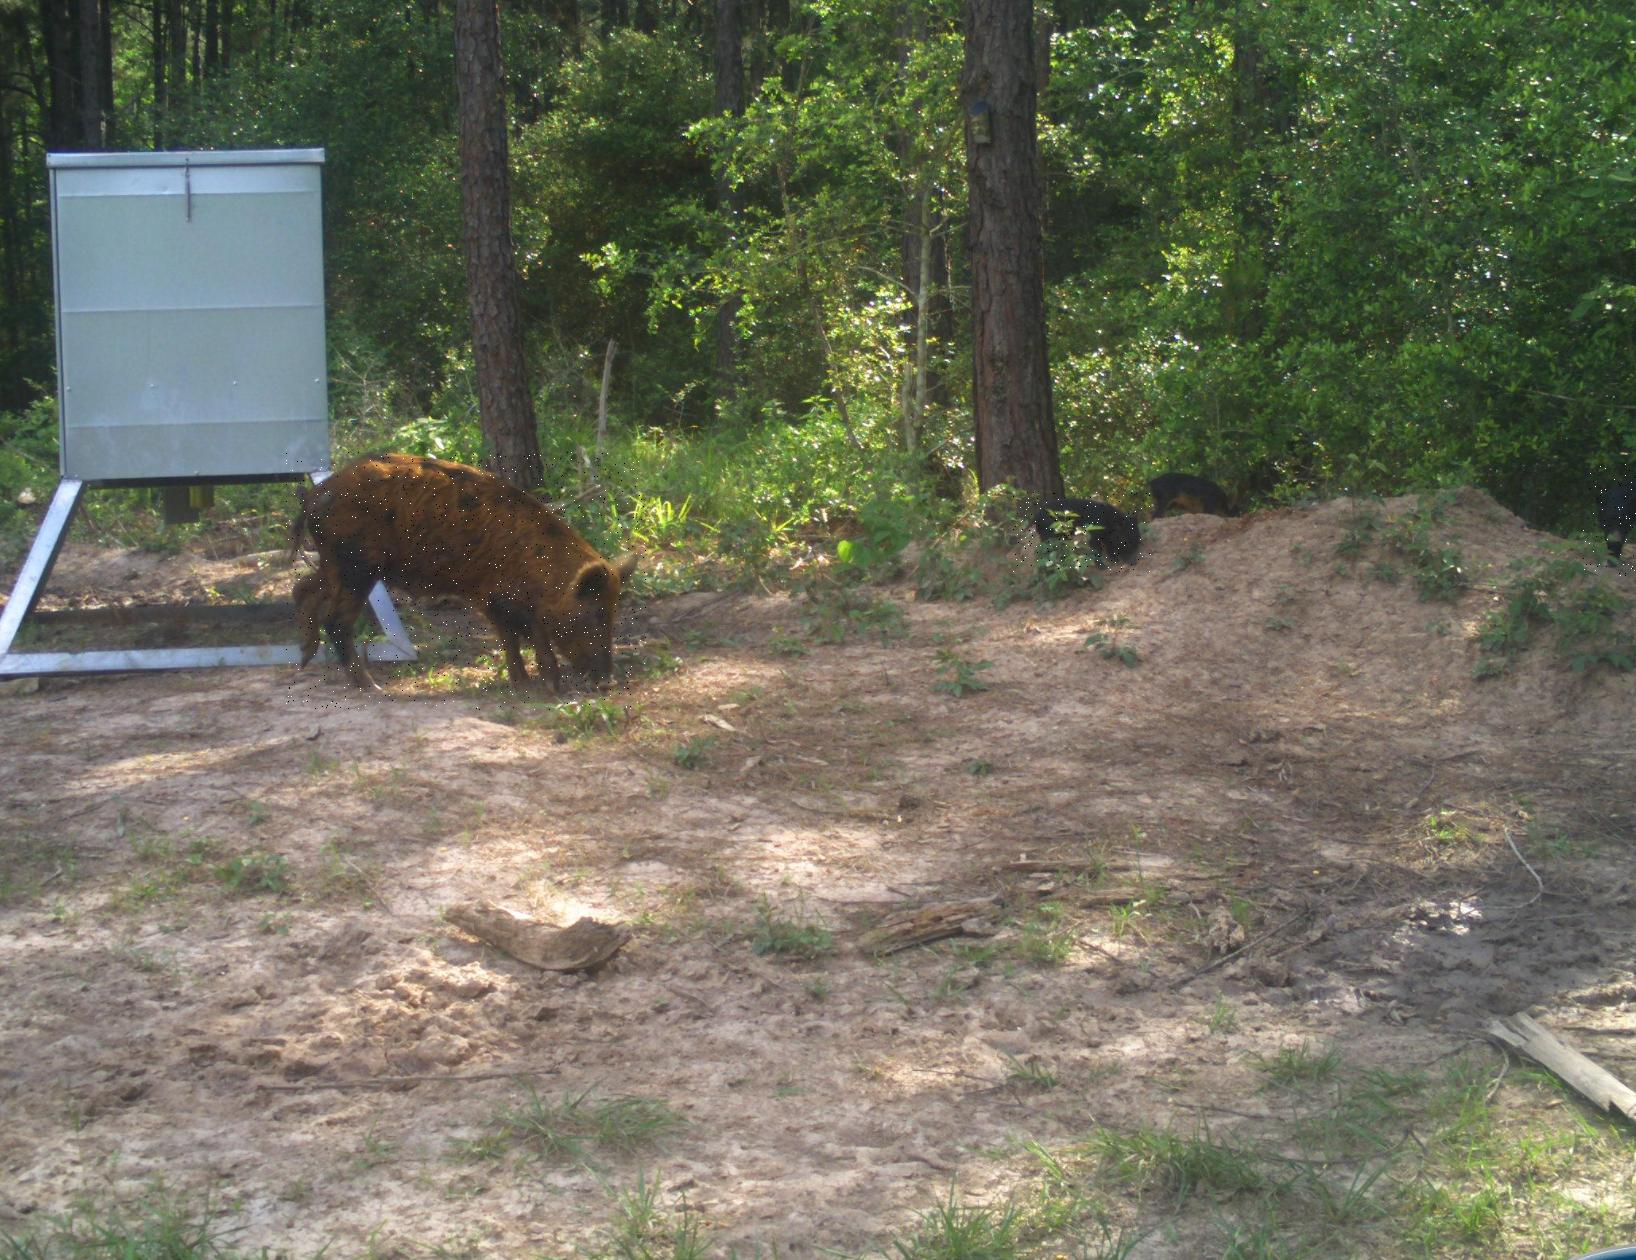Hog: (286, 453, 646, 709), (1013, 490, 1152, 572), (1583, 465, 1636, 576)
